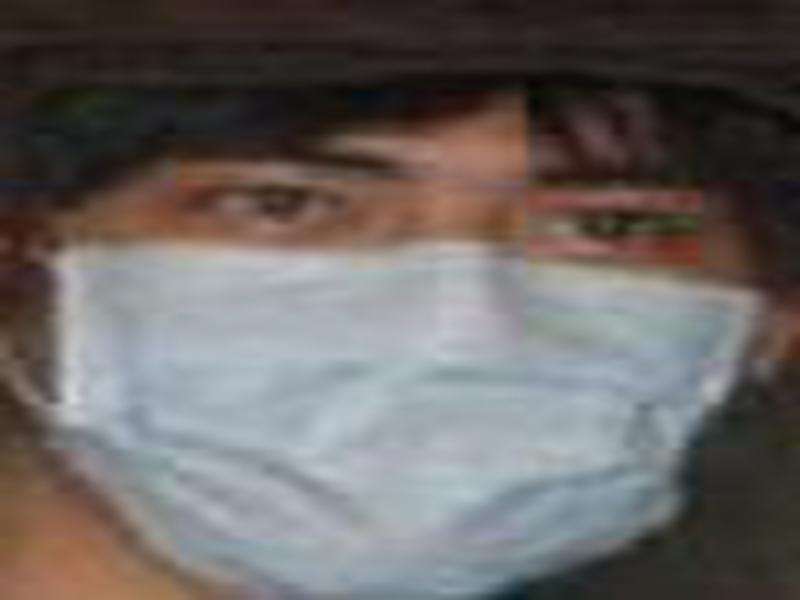with_mask: (1, 93, 782, 600)
